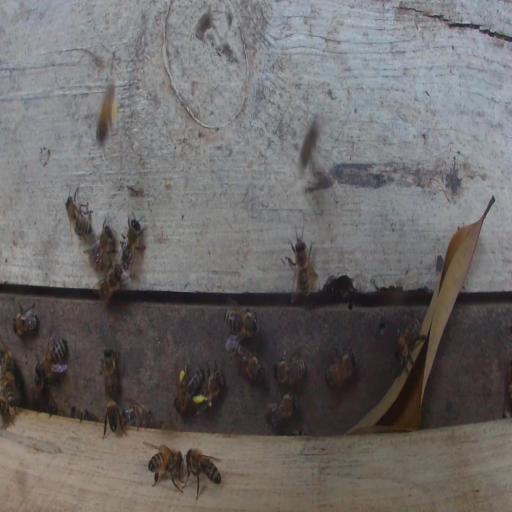bee: (285, 230, 317, 303), (184, 448, 222, 496), (147, 446, 182, 491), (325, 344, 358, 388), (233, 344, 266, 387), (173, 370, 205, 414), (393, 319, 421, 368), (263, 392, 300, 428), (97, 81, 117, 146), (87, 221, 114, 268), (95, 262, 123, 306), (65, 194, 93, 237), (223, 307, 259, 337), (42, 337, 68, 378), (12, 300, 39, 338), (300, 113, 318, 170), (273, 357, 306, 386), (205, 361, 226, 404), (102, 400, 125, 439), (102, 347, 119, 398), (122, 223, 140, 270), (121, 404, 151, 430), (32, 362, 46, 411), (0, 389, 17, 425), (1, 340, 15, 378)
